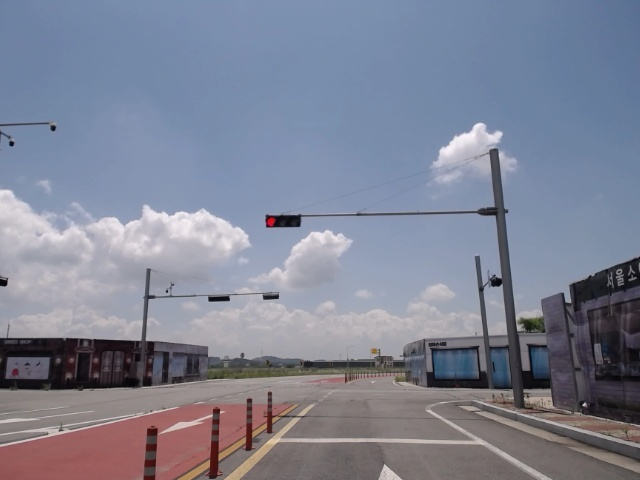red_3: (261, 213, 305, 227)
